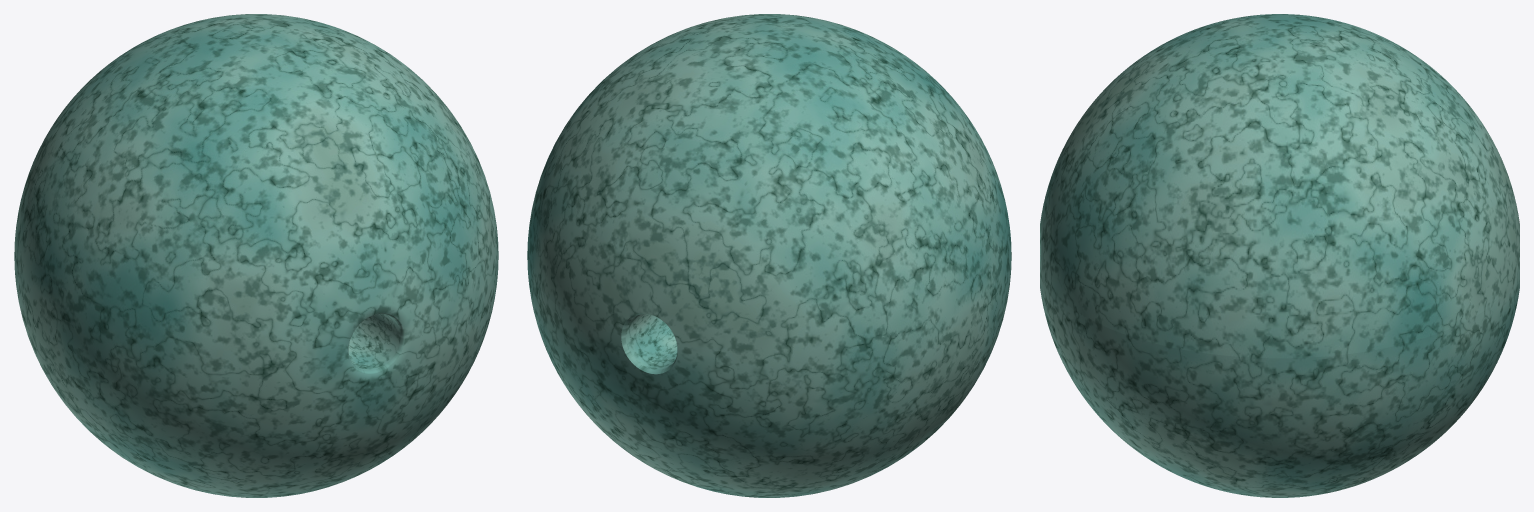
The model's file is moss-agate.glb.
3 renders of one model, left to right at view 1: azimuth 30°, elevation 25°; view 2: azimuth 150°, elevation 25°; view 3: azimuth 270°, elevation 25°, orthographic.
Visible parts, largest first — view 1: moss-agate.001; view 2: moss-agate.001; view 3: moss-agate.001.
Boxes of the visible parts, <box> form: moss-agate.001: <box>14,14,498,497</box>; moss-agate.001: <box>527,14,1011,497</box>; moss-agate.001: <box>1040,14,1519,497</box>.
Size of the model in its own units: 0.008 by 0.008 by 0.00793.
Materials: 2 (1 with a texture image).
